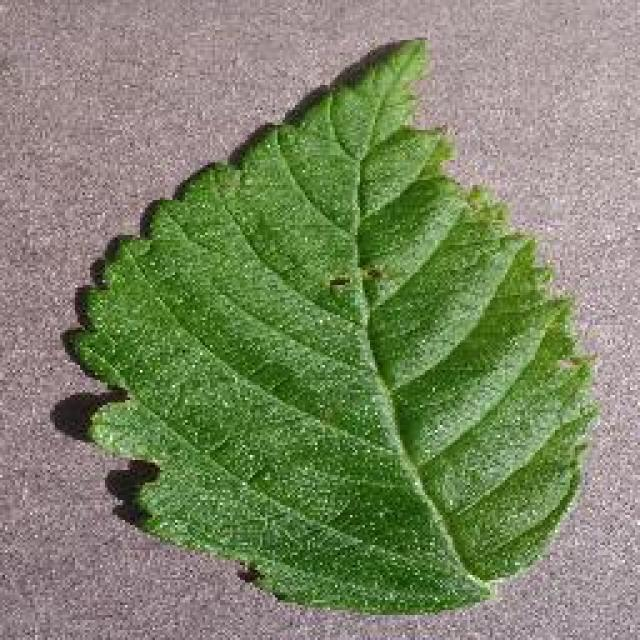Ras_healthy: (82, 72, 572, 593)
